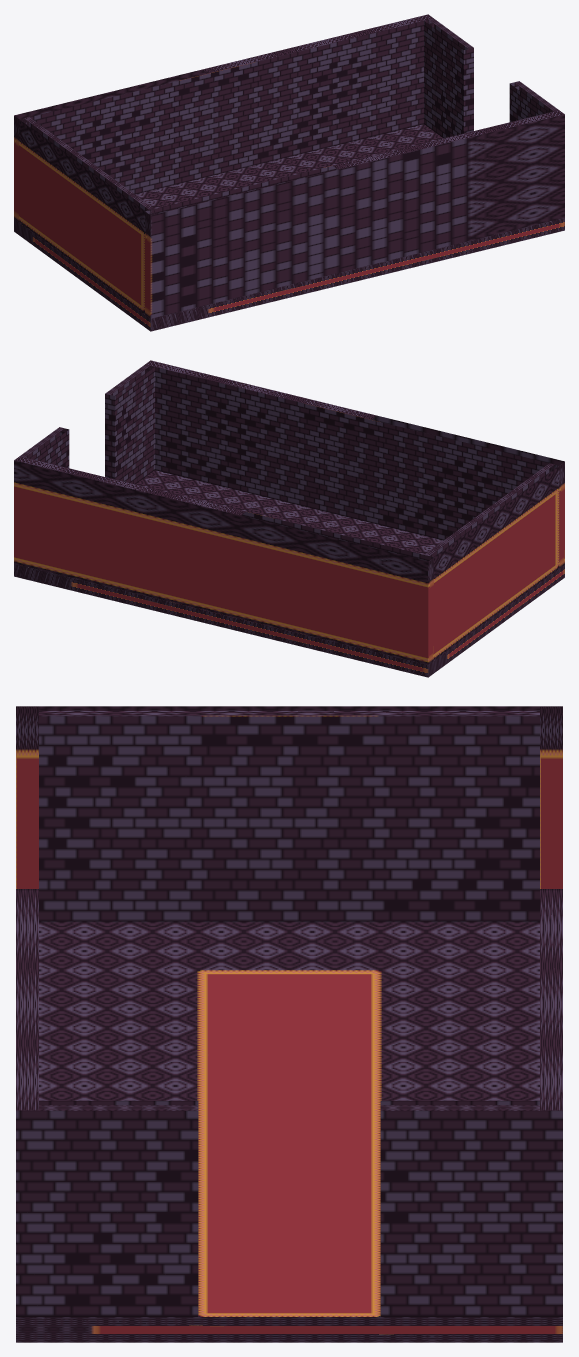
The model's file is ThroneRoom.fbx.
The picture shows the model from 3 angles, top to bottom: view 1: azimuth 30°, elevation 25°; view 2: azimuth 150°, elevation 25°; view 3: azimuth 270°, elevation 25°; orthographic projection. The views are drawn at different scales.
Visible parts, largest first — view 1: Cube; view 2: Cube; view 3: Cube.
Part boxes in pixels (left/top/right/bottom): Cube: left=14, top=14, right=564, bottom=331; Cube: left=14, top=360, right=564, bottom=677; Cube: left=16, top=706, right=562, bottom=1342.
Bounding box in the file's own units: 3360 × 1920 × 900.
Materials: 1 (1 with a texture image).
